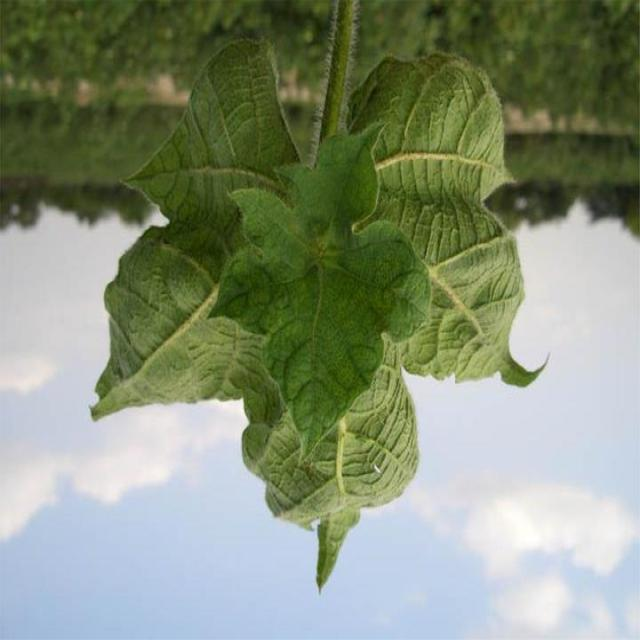Leaf Curl Virus: (185, 88, 465, 433)
